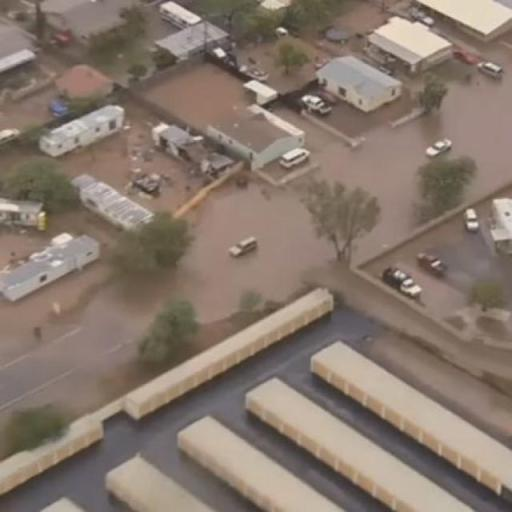flood: (91, 179, 512, 380), (271, 87, 512, 263), (372, 338, 512, 434), (62, 130, 204, 220), (362, 217, 478, 318), (0, 269, 105, 365), (143, 66, 246, 124), (242, 38, 315, 92), (0, 228, 54, 267), (337, 0, 390, 31)
house: (6, 233, 100, 301), (210, 106, 305, 170), (366, 18, 456, 78), (316, 55, 404, 112), (70, 172, 153, 228), (41, 106, 127, 159), (425, 0, 512, 44), (40, 0, 114, 48), (158, 22, 228, 62), (0, 24, 35, 76), (487, 197, 512, 257)
